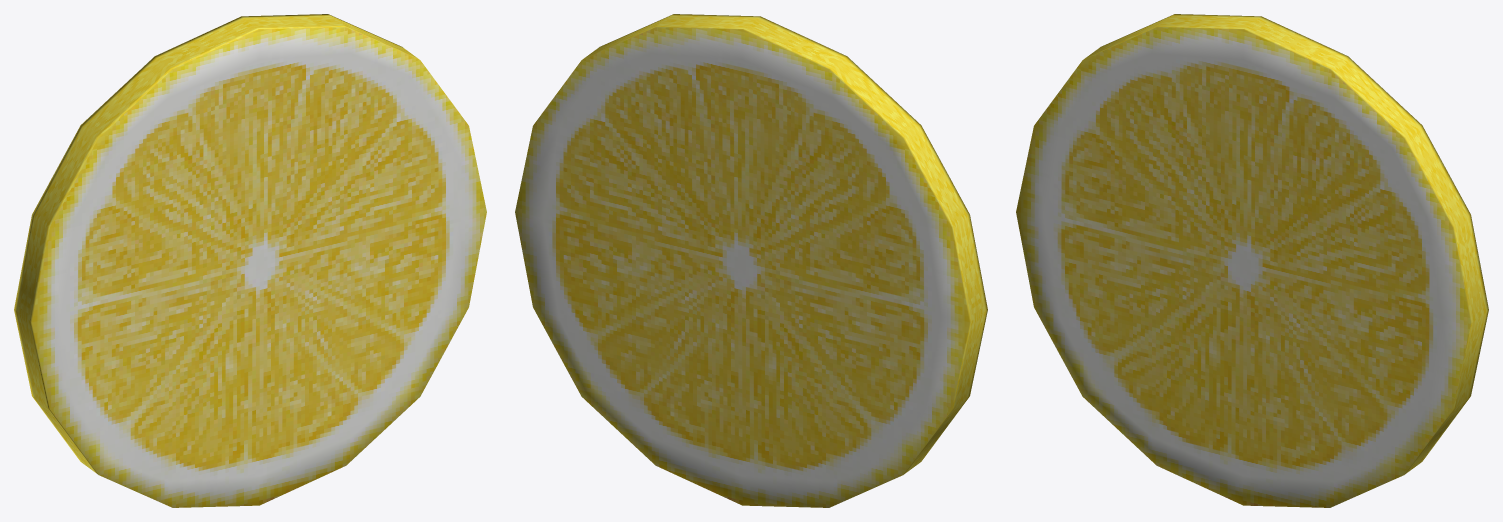
Rendered from lemon.fbx.
3 renders of one model, left to right at view 1: azimuth 30°, elevation 25°; view 2: azimuth 150°, elevation 25°; view 3: azimuth 330°, elevation 25°, orthographic.
Visible parts, largest first — view 1: Cylinder001; view 2: Cylinder001; view 3: Cylinder001.
Part boxes in pixels (left/top/right/bottom): Cylinder001: left=14, top=14, right=486, bottom=507; Cylinder001: left=515, top=14, right=987, bottom=507; Cylinder001: left=1016, top=14, right=1488, bottom=507.
Bounding box in the file's own units: 92.68 × 92.68 × 6.54.
1 material, 1 textured.
